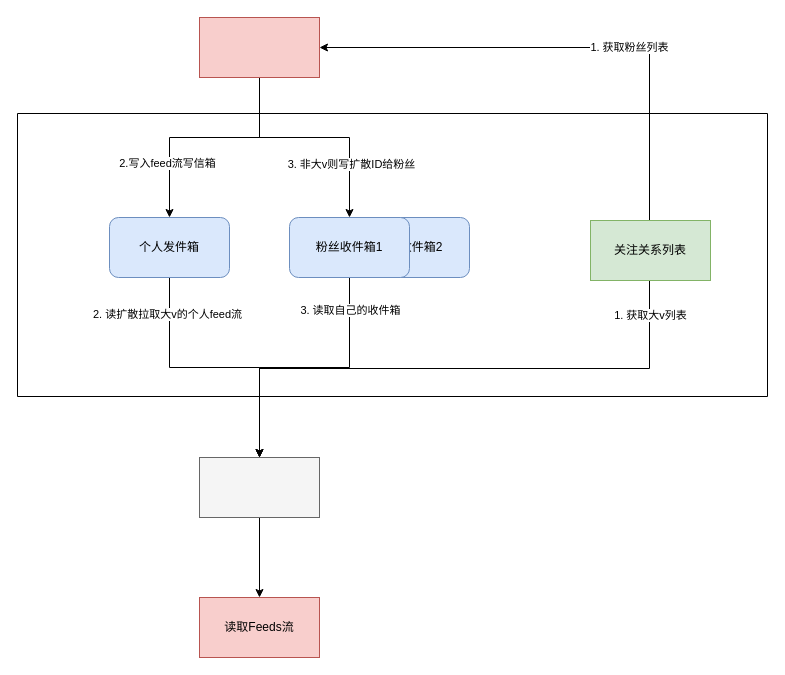
The diagram is 785 pixels wide and 675 high, and some of its shapes have lost their labels. The shapes that lost their labels are listed below. From the top down, each one's box as (x1, y1, x2, y2) in pixels, then its label:
(198, 16, 320, 78): 发送Feed
(198, 456, 320, 518): 懒删除等操作，整合Feed消息
